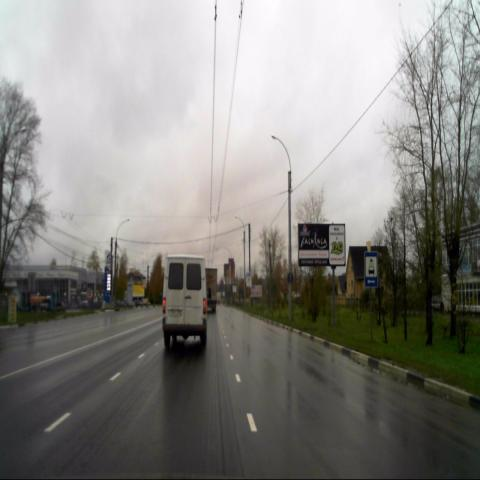7_5: (364, 251, 377, 288)
